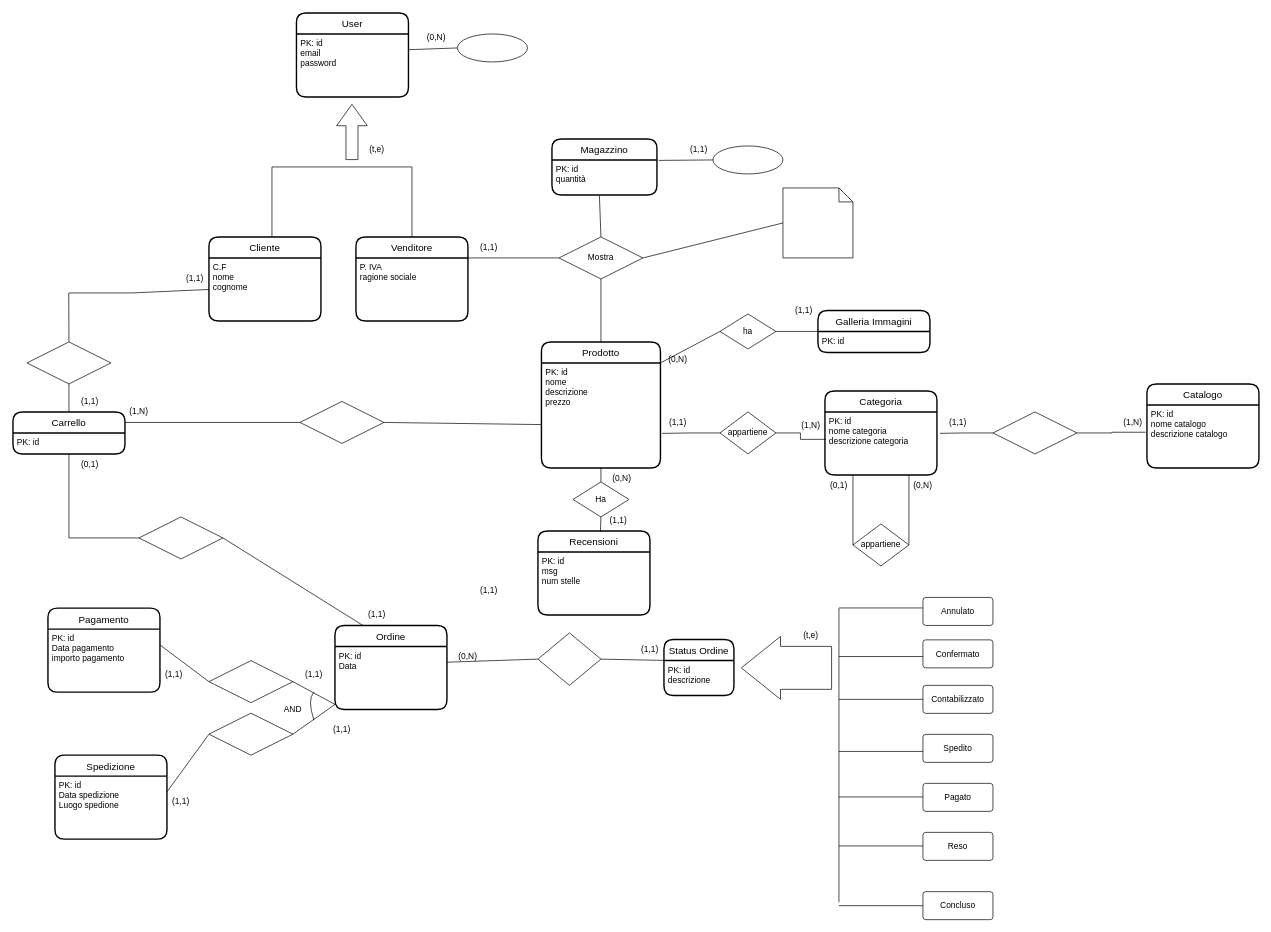
This 1271x932 diagram has some shape labels left out. Each missing label, with the centre of its shape:
"Avanzamento" goes at [569,658].
"composto" goes at [1034,432].
"Consegna" goes at [250,733].
"Effettua" goes at [180,537].
"Fatturazione" goes at [250,681].
"Indirizzo di fatturazione" goes at [492,47].
"Inserito" goes at [341,422].
"Possiede" goes at [68,362].
"Sede" goes at [747,159].
"Status prodotto (in carrello)" goes at [817,222].
